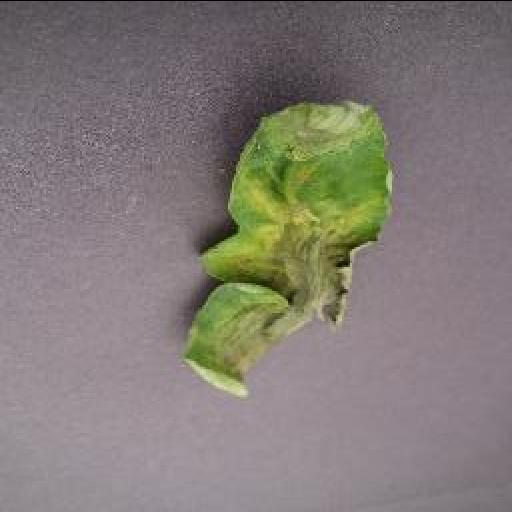disease_tomato: (166, 96, 402, 398)
